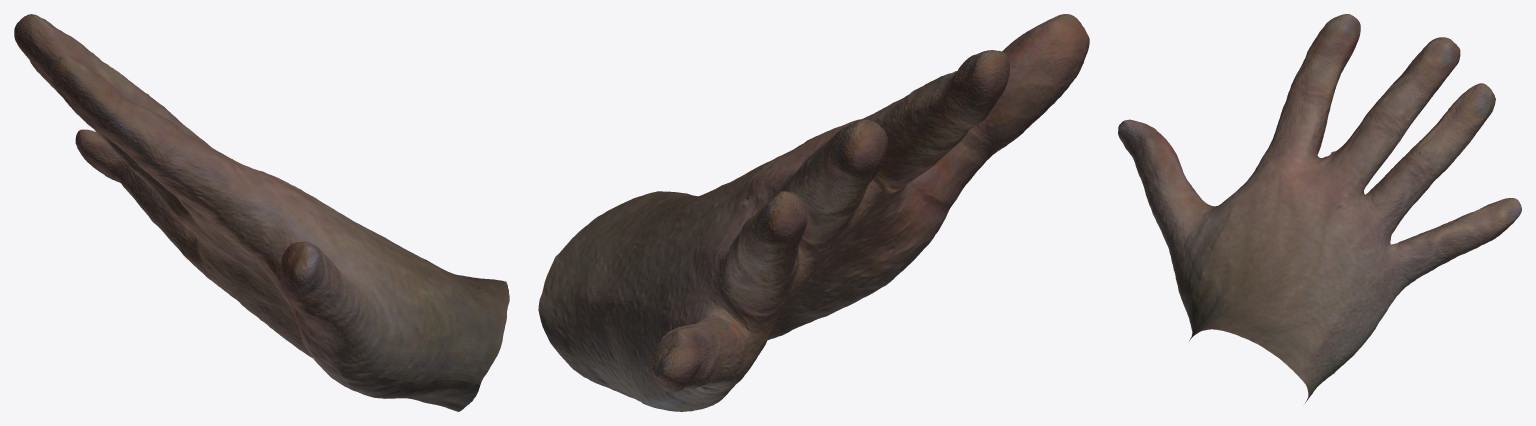
3 renders of one model, left to right at view 1: azimuth 30°, elevation 25°; view 2: azimuth 150°, elevation 25°; view 3: azimuth 270°, elevation 25°, orthographic. The views are drawn at different scales.
Visible parts, largest first — view 1: 9; view 2: 9; view 3: 9.
Boxes of the visible parts, x1,y1,x2,y2 form: 9: (14, 14, 509, 411); 9: (538, 14, 1089, 411); 9: (1118, 14, 1521, 402).
Size of the model in its own units: 0.1652 by 0.1514 by 0.199.
